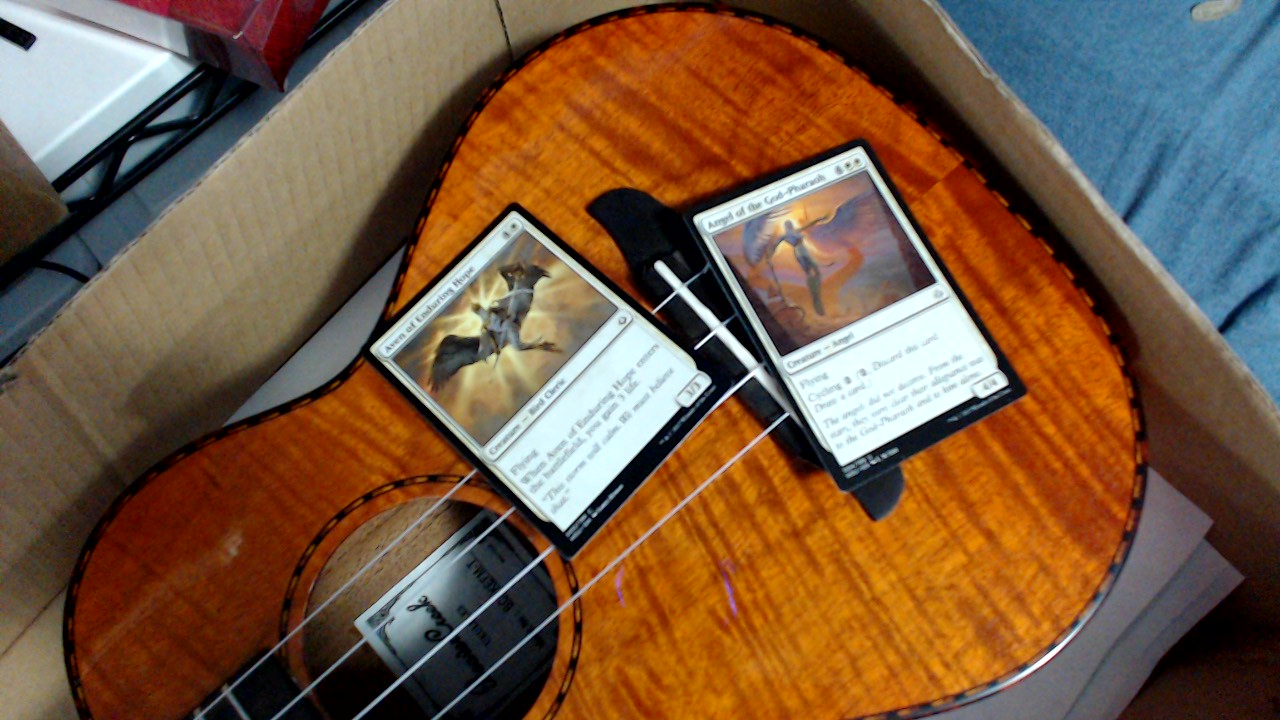MTG Card: (354, 198, 744, 568), (673, 135, 1039, 493)
